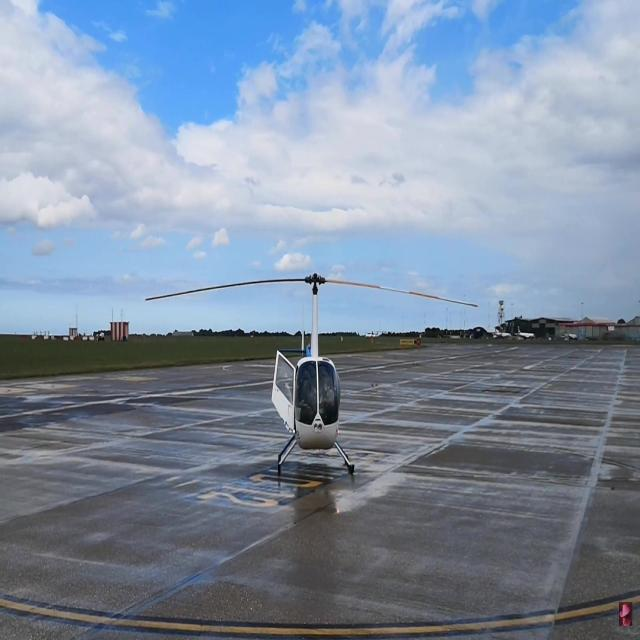CIV_HELO: (266, 271, 356, 476)
